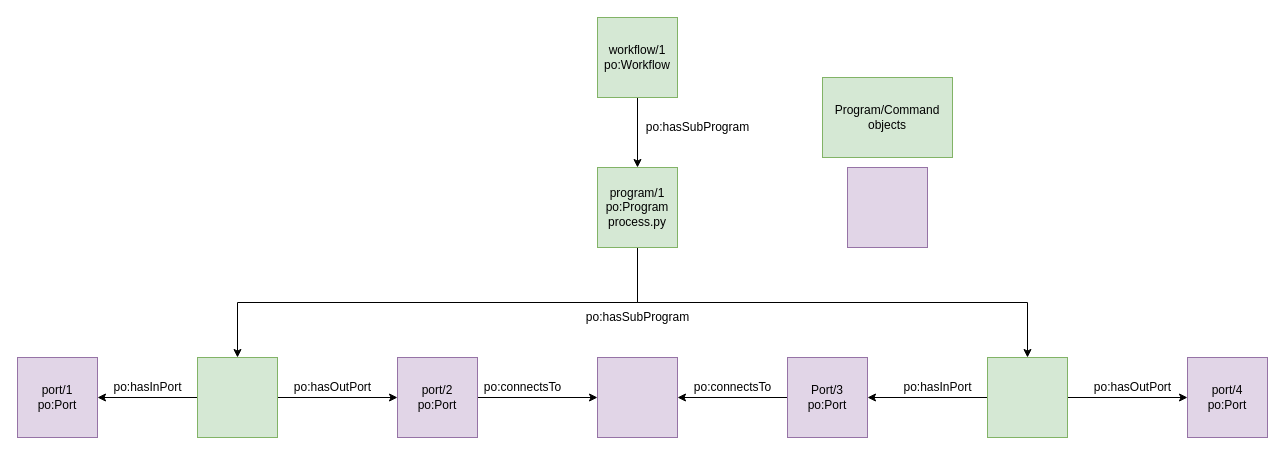
Some shapes in this 1285 by 455 pixel diagram are drawn without their labels. Here are the shapes that lost their labels. From the top down, the centre of each, then its label:
At (x=887, y=207): "Data Flow".
At (x=237, y=397): "program/3 po:Program".
At (x=637, y=397): "channel/1 po:Channel".
At (x=1027, y=397): "program/4 po:Program".
